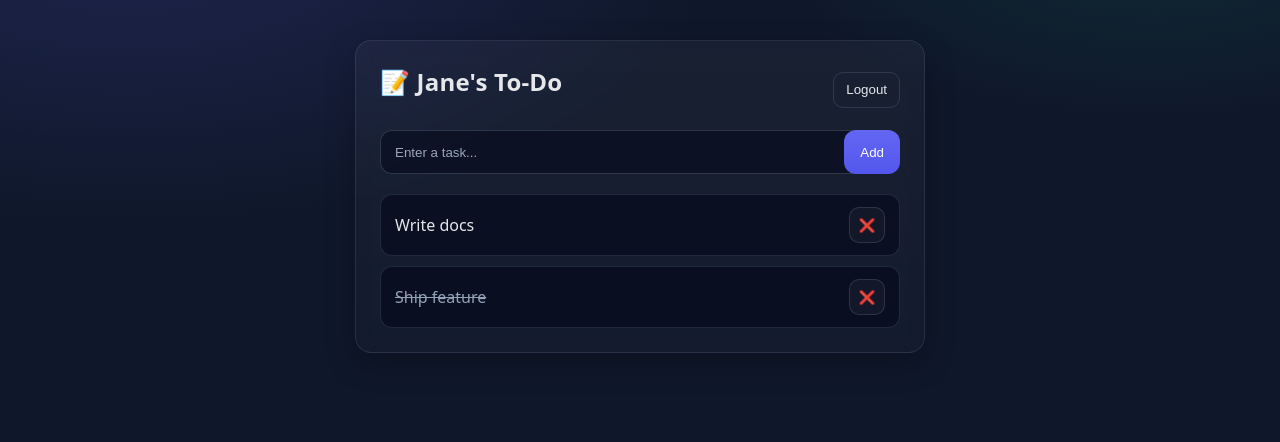
Test case: App component › adds a todo and clears the input
Expected: the text "Write docs" is shown, [395,214,474,236]
Type "New task" into the field with placeholder "Enter a task..." at x=621, y=152, box [380,130,862,174]
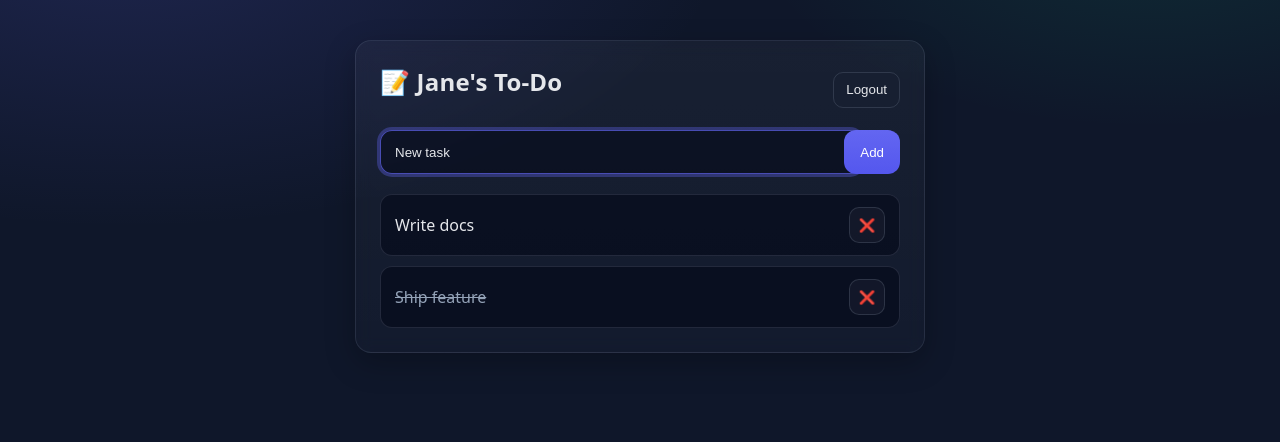
Click the button "Add" at x=872, y=152, box [844,130,900,174]
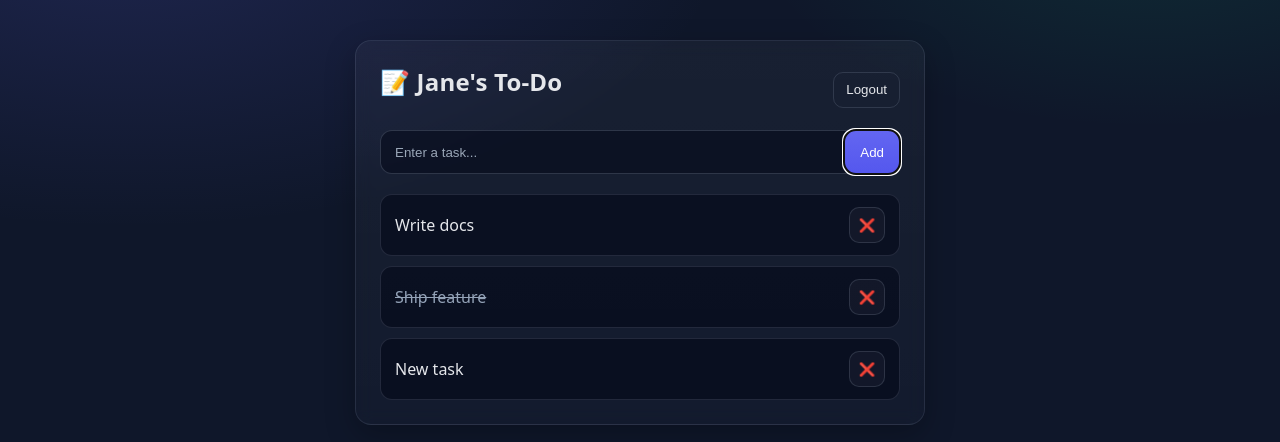
Expected: the text "New task" is shown, [395,358,464,380]
Expected: the field with placeholder "Enter a task..." is empty, [380,130,862,174]
